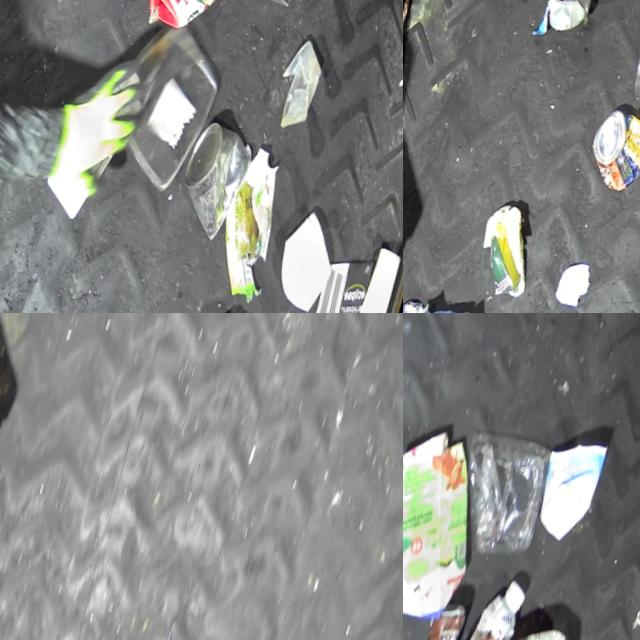can: (173, 112, 263, 242), (585, 101, 640, 193), (544, 0, 601, 32), (403, 0, 415, 85)
non_white_jug: (134, 0, 253, 45)
